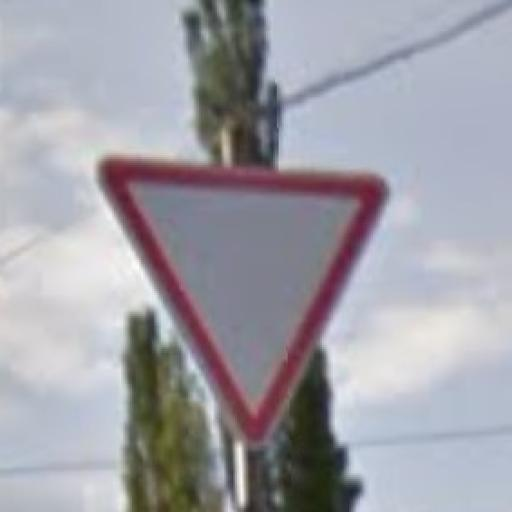traffic_sign: (95, 156, 388, 451)
